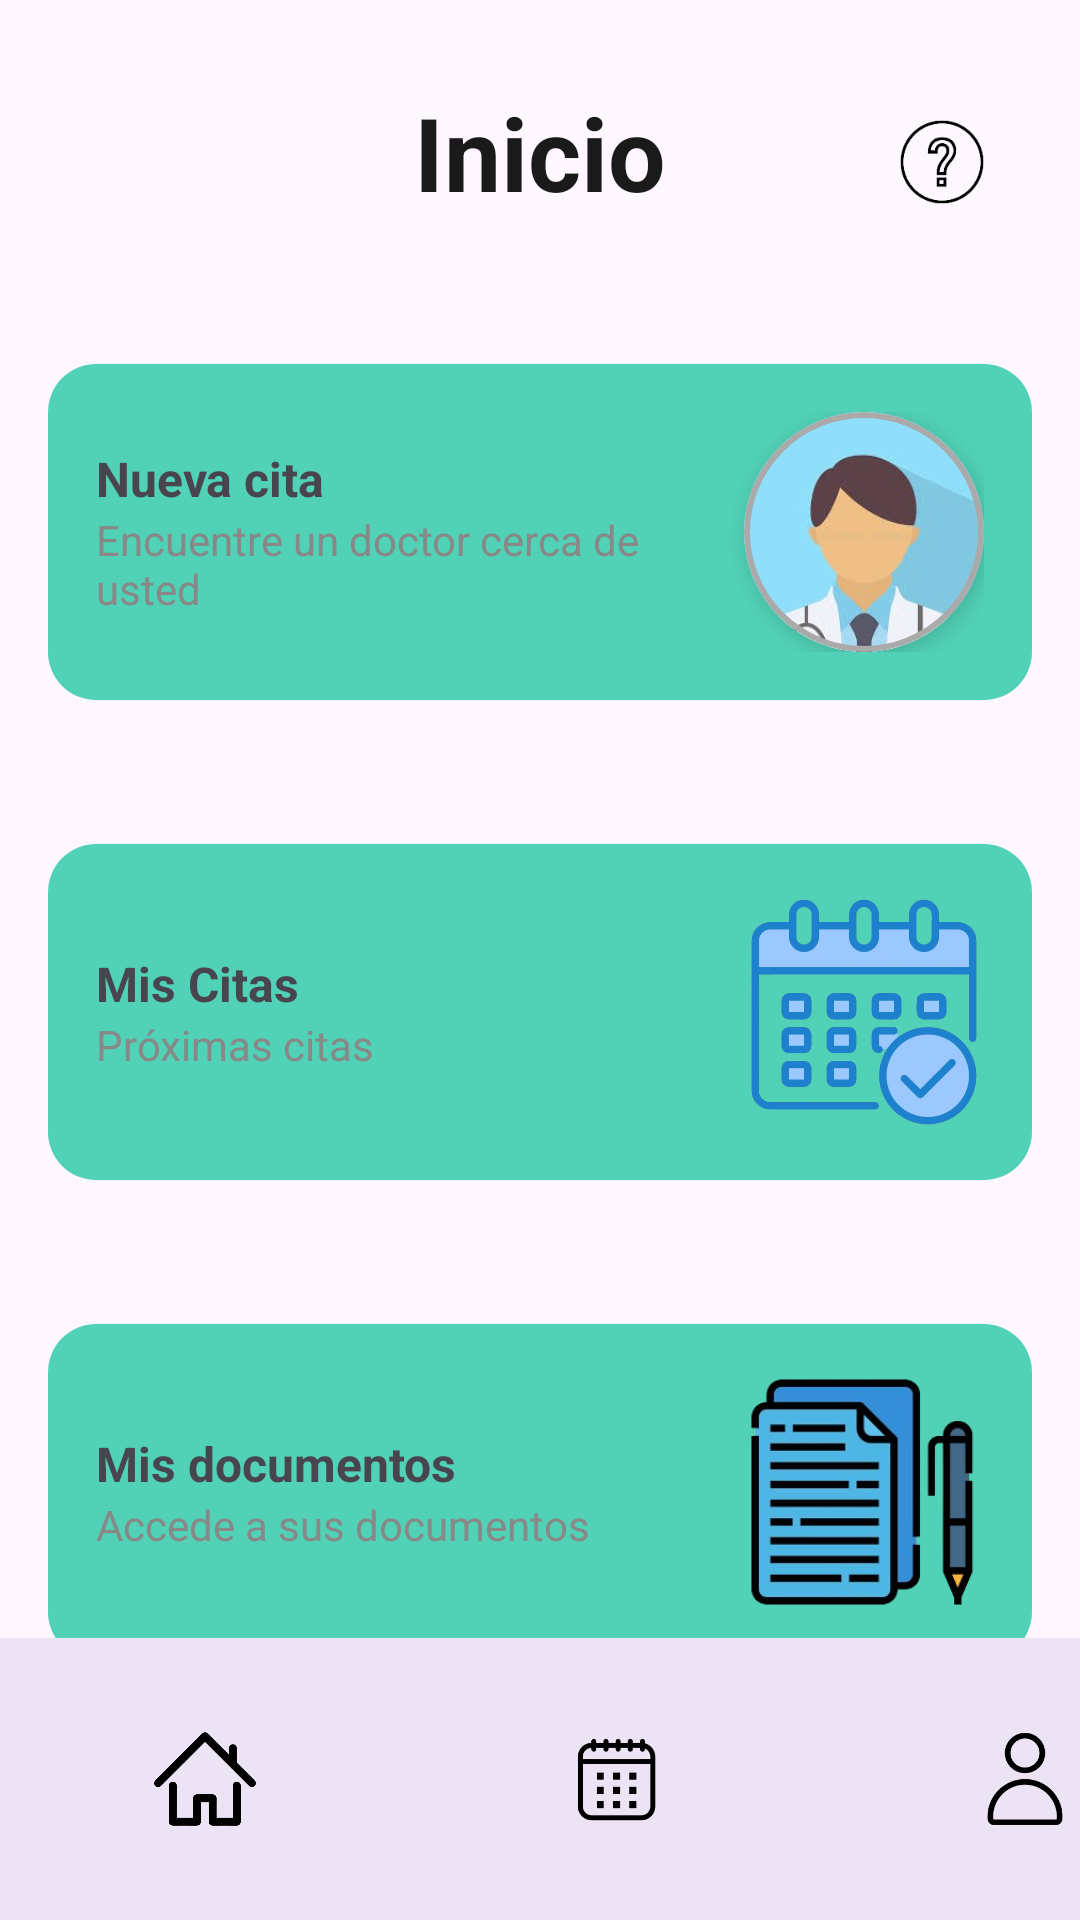

Named icons in this screenshot (1080×1920) and their centers, [x,y]:
calendarioazul: [864,1012]
documentos: [862,1492]
